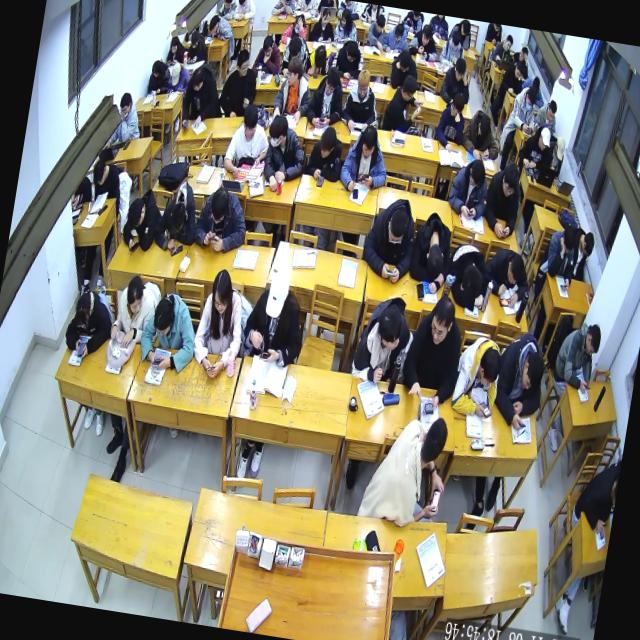bow: (490, 328, 550, 432), (136, 290, 202, 374), (449, 332, 505, 421), (191, 182, 251, 256), (406, 210, 456, 295), (62, 286, 117, 361), (152, 180, 202, 252), (442, 240, 492, 310), (482, 246, 532, 310), (120, 186, 164, 256), (459, 106, 505, 163), (305, 124, 347, 184), (278, 32, 312, 76), (405, 20, 442, 60), (388, 48, 420, 92), (382, 19, 412, 54), (281, 11, 310, 46), (206, 11, 238, 41), (303, 44, 331, 78), (215, 0, 237, 20)
down: (264, 272, 292, 318), (208, 268, 234, 316), (478, 346, 503, 390), (520, 352, 546, 392), (151, 295, 175, 337), (208, 183, 231, 224), (385, 207, 408, 244), (73, 292, 94, 330), (317, 124, 339, 160), (499, 161, 519, 198), (126, 197, 147, 229), (168, 202, 188, 234), (360, 125, 378, 160), (584, 323, 602, 358), (468, 158, 487, 188), (506, 254, 524, 284), (476, 112, 494, 142), (324, 66, 340, 98), (355, 69, 371, 98), (92, 158, 108, 186), (560, 227, 576, 255), (580, 231, 596, 259), (118, 92, 133, 118), (396, 50, 412, 74), (190, 66, 205, 91), (453, 58, 468, 83), (538, 126, 552, 152), (552, 136, 566, 162), (312, 45, 328, 67), (260, 34, 274, 58), (287, 36, 303, 57), (345, 40, 359, 64), (524, 86, 538, 110), (170, 61, 182, 87), (546, 98, 559, 120), (420, 22, 432, 45), (189, 28, 201, 50), (338, 8, 351, 28), (392, 21, 404, 42), (208, 14, 220, 34), (451, 30, 462, 51), (321, 6, 332, 26), (150, 60, 162, 78), (502, 34, 514, 52), (294, 13, 304, 34), (514, 62, 525, 80), (170, 34, 178, 54), (222, 0, 234, 12), (237, 0, 248, 5)
sit: (358, 406, 456, 530), (397, 292, 469, 418), (188, 266, 252, 382), (239, 269, 310, 369), (360, 193, 420, 283), (221, 102, 274, 182), (260, 114, 310, 196), (338, 122, 393, 196), (109, 272, 158, 350), (552, 320, 603, 394), (480, 158, 526, 239), (180, 60, 228, 130), (217, 47, 262, 120), (271, 55, 317, 126), (446, 155, 492, 221), (304, 64, 348, 132), (339, 68, 384, 132), (540, 221, 580, 291), (382, 71, 425, 133), (433, 90, 469, 153), (110, 90, 146, 145), (439, 54, 475, 106), (516, 124, 552, 172), (508, 85, 540, 136), (330, 38, 367, 82), (250, 33, 284, 79), (568, 225, 596, 280), (90, 159, 125, 200), (307, 5, 338, 44), (438, 28, 468, 67), (333, 7, 361, 44), (499, 60, 526, 98), (534, 97, 560, 136), (544, 136, 567, 178), (146, 59, 172, 96), (186, 27, 211, 64), (167, 60, 193, 94), (365, 13, 388, 51), (508, 44, 532, 80), (165, 34, 188, 66), (492, 32, 514, 64), (233, 0, 258, 21)
